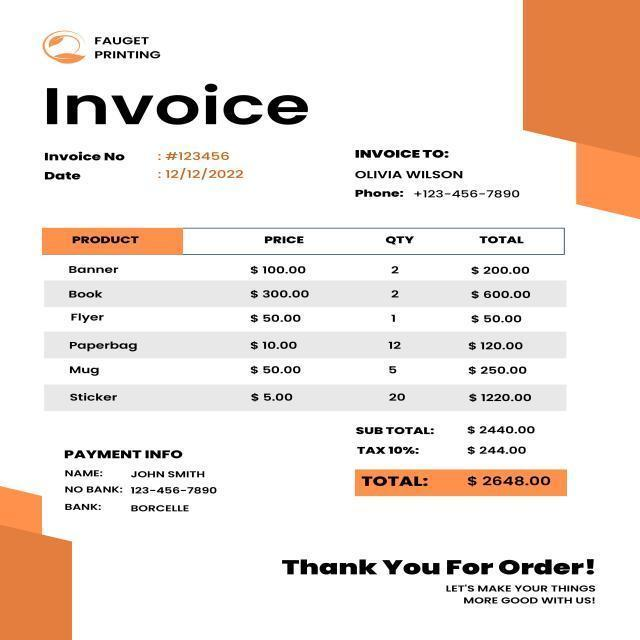paragraph: (276, 552, 605, 612), (351, 418, 556, 492), (39, 77, 312, 130), (59, 443, 222, 519), (351, 145, 523, 203), (39, 145, 248, 184), (90, 31, 165, 66)
table: (50, 225, 540, 408)
